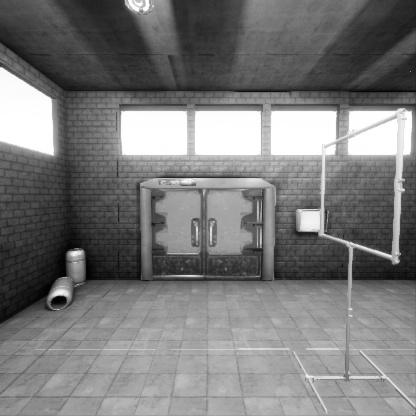gate: (320, 159, 408, 314)
